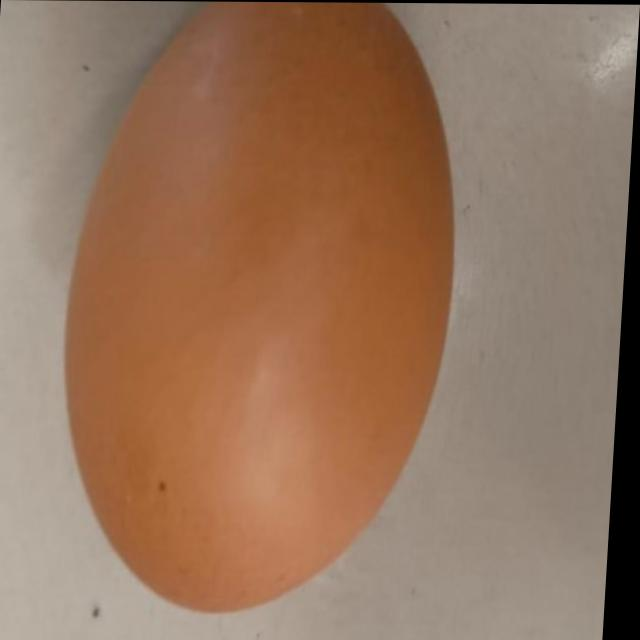fresh: (38, 0, 482, 638)
